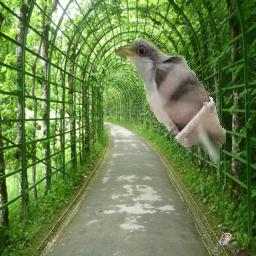Cuckoo: (114, 38, 226, 166)
Sparrow: (221, 229, 236, 246)
